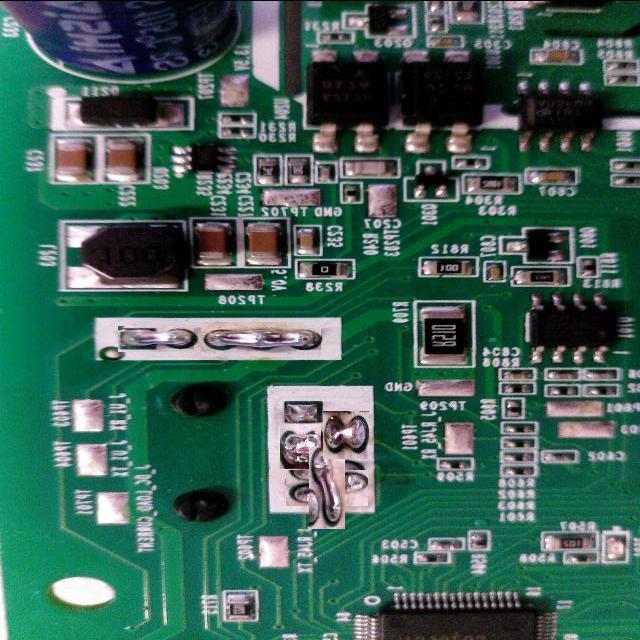Short_circuit: (201, 322, 321, 357), (298, 459, 356, 517), (322, 412, 369, 459), (119, 326, 194, 352), (279, 425, 322, 469)
